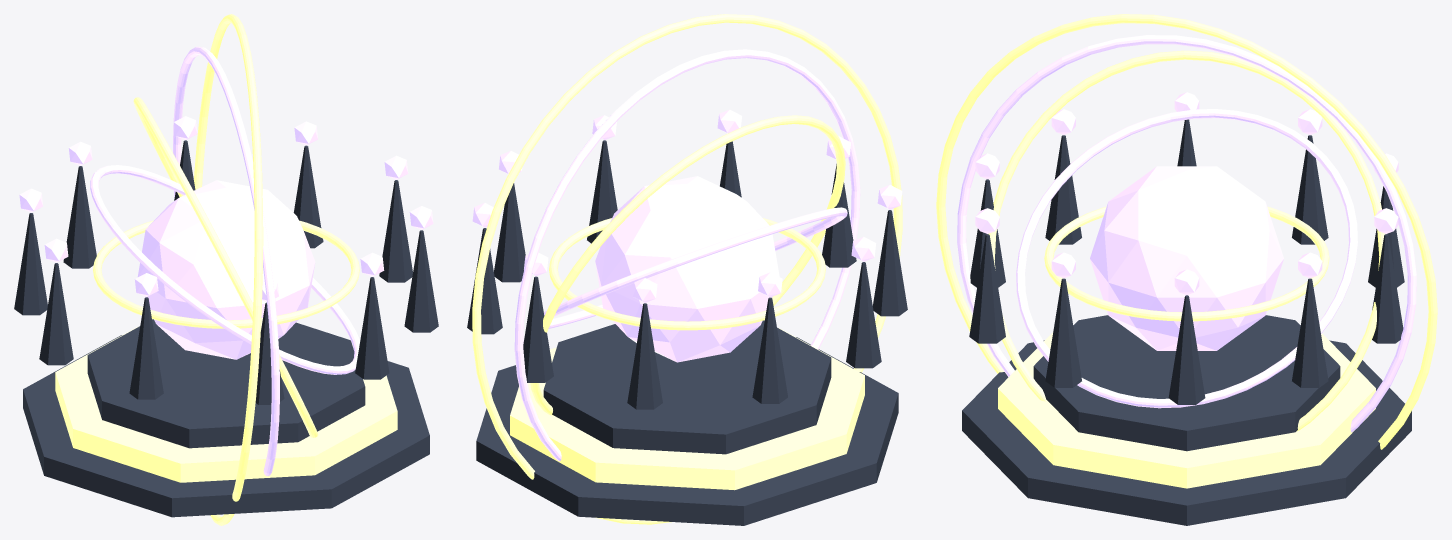
File: gpu-blender-v48.glb
3 renders of one model, left to right at view 1: azimuth 30°, elevation 25°; view 2: azimuth 150°, elevation 25°; view 3: azimuth 270°, elevation 25°, orthographic. The views are drawn at different scales.
Parts seen in each view (by area): view 1: Cylinder.002, Cylinder, SovereignCore_city-desk, Cylinder.001, Torus.004, Torus.003, Torus.001, Torus, Torus.002, Cone.004, Cone.008, Cone.005 (+6 smaller); view 2: Cylinder.002, SovereignCore_city-desk, Cylinder, Cylinder.001, Torus.004, Torus.003, Torus.002, Torus, Torus.001, Cone.005, Cone.003, Cone.006 (+7 smaller); view 3: SovereignCore_city-desk, Cylinder.002, Cylinder, Cylinder.001, Torus.004, Torus.003, Torus.001, Torus.002, Torus, Cone, Cone.008, Cone.001 (+7 smaller).
Part boxes in pixels (x1,y1,x2,y2): Cylinder.002: [87, 319, 365, 448]; Cylinder: [23, 335, 429, 517]; SovereignCore_city-desk: [137, 180, 315, 359]; Cylinder.001: [55, 326, 397, 482]; Torus.004: [194, 14, 263, 525]; Torus.003: [173, 46, 279, 475]; Torus.001: [90, 165, 360, 374]; Torus: [93, 220, 359, 328]; Torus.002: [133, 97, 318, 437]; Cone.004: [14, 213, 47, 315]; Cone.008: [355, 277, 389, 379]; Cone.005: [39, 263, 73, 365]; Cylinder.002: [543, 320, 831, 454]; SovereignCore_city-desk: [595, 176, 779, 362]; Cylinder: [476, 337, 898, 525]; Cylinder.001: [510, 328, 864, 490]; Torus.004: [472, 14, 902, 524]; Torus.003: [514, 49, 860, 461]; Torus.002: [530, 115, 845, 415]; Torus: [549, 218, 825, 330]; Torus.001: [544, 207, 847, 328]; Cone.005: [846, 262, 881, 368]; Cone.003: [627, 303, 662, 409]; Cone.006: [873, 210, 907, 316]; SovereignCore_city-desk: [1090, 166, 1283, 350]; Cylinder.002: [1033, 315, 1340, 451]; Cylinder: [962, 340, 1411, 525]; Cylinder.001: [998, 332, 1375, 488]; Torus.004: [936, 14, 1437, 449]; Torus.003: [957, 35, 1416, 432]; Torus.001: [1016, 109, 1357, 408]; Torus.002: [988, 50, 1385, 431]; Torus: [1044, 206, 1329, 321]; Cone: [1168, 295, 1205, 404]; Cone.008: [969, 234, 1005, 343]; Cone.001: [1292, 278, 1328, 387].
Bounding box in the file's own units: 4.41 × 5.33 × 4.9.
